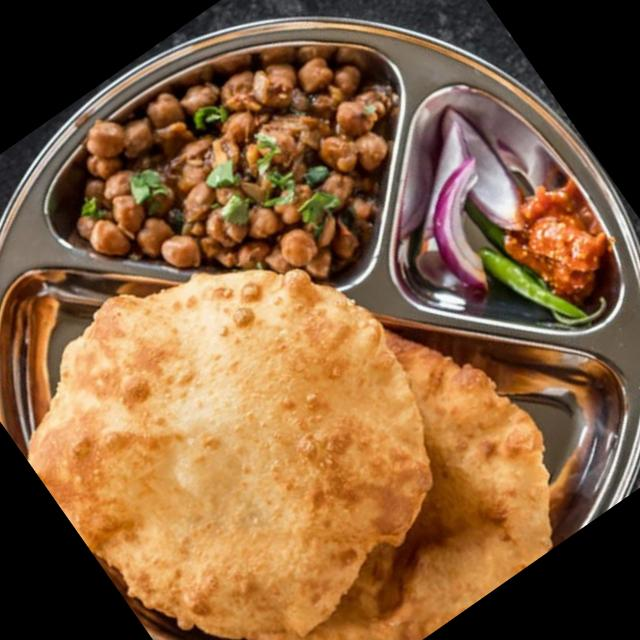Bhatura: (0, 146, 591, 640)
Chole: (25, 0, 445, 371)
